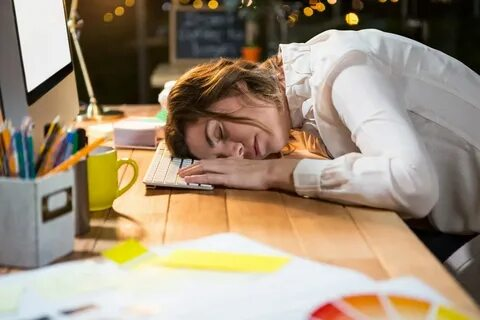sleep: (164, 28, 480, 211)
